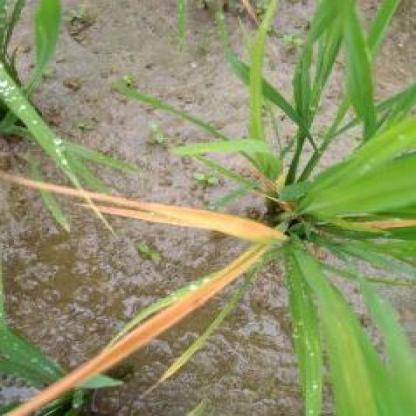Tungro: (14, 250, 266, 416), (19, 187, 293, 246)
